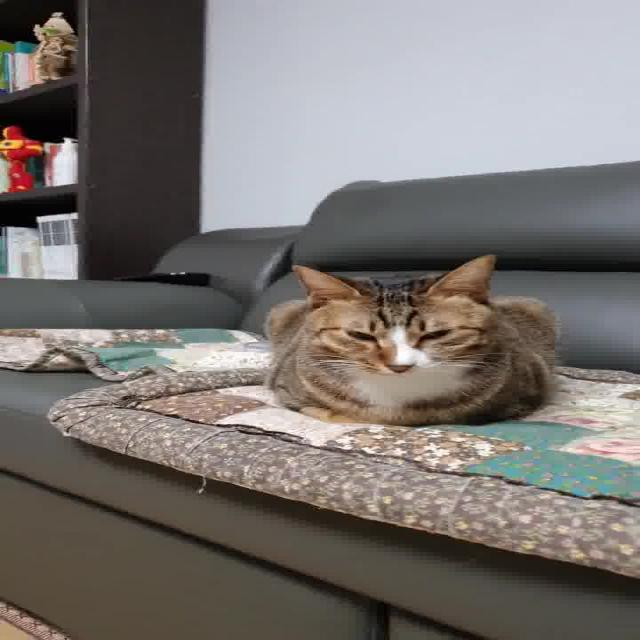cat: (246, 243, 579, 436)
